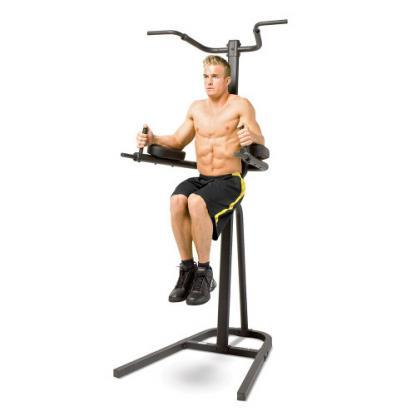chinning dipping: (113, 19, 287, 403)
